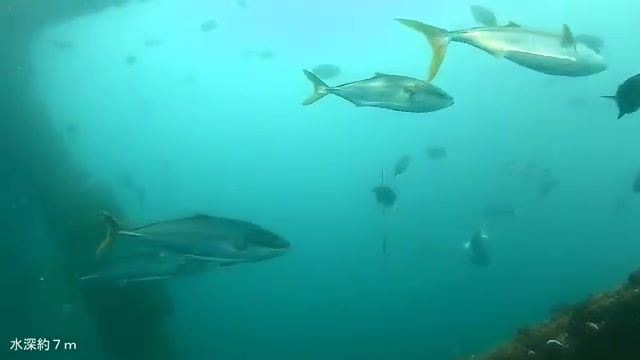hamati: (389, 7, 618, 85), (93, 202, 299, 271), (299, 70, 467, 125)
